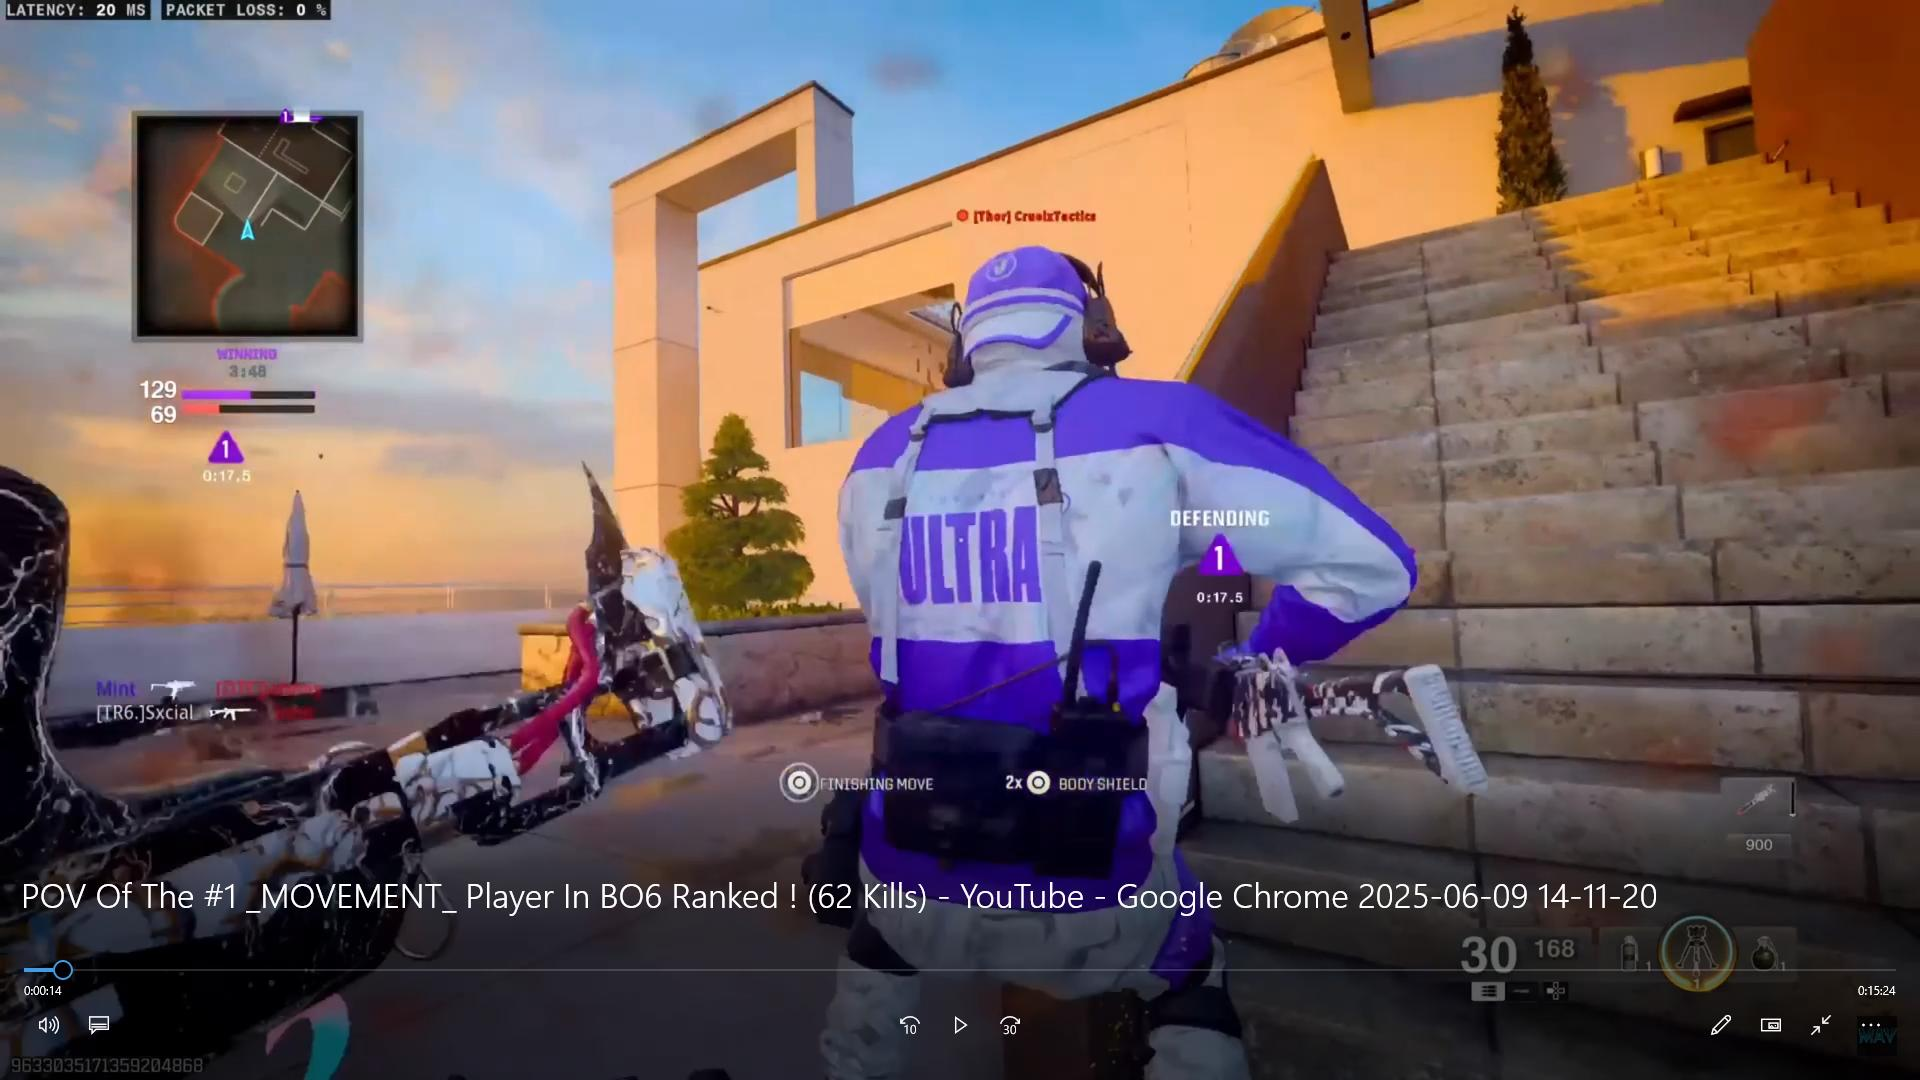Enemy: (837, 231, 1261, 775)
